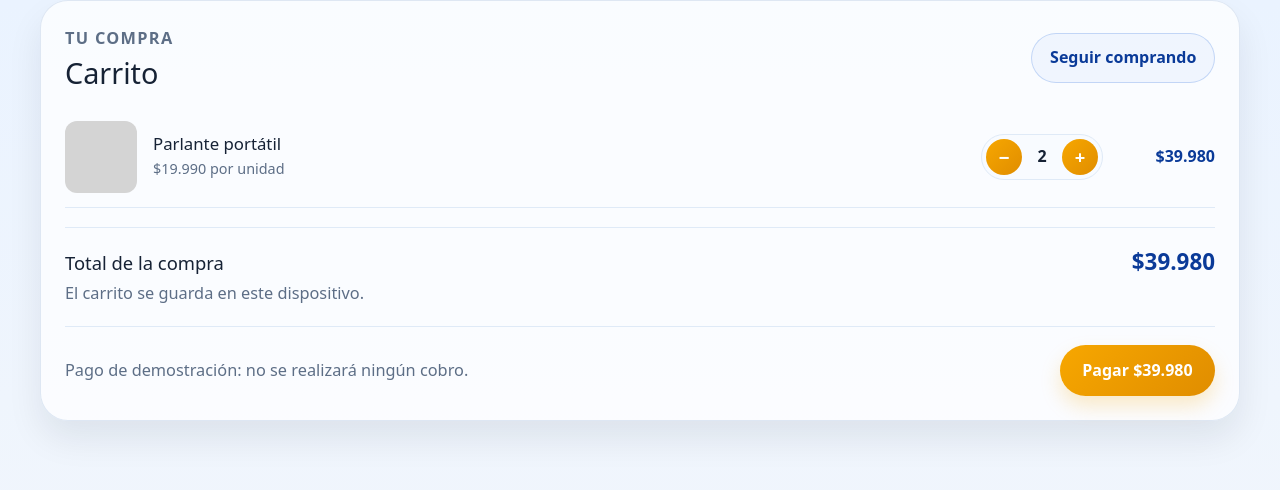
Test: confirma el pago de demostración y solicita vaciar el carrito
This screenshot has width=1280, height=490.
Click the button "Pagar $39.980" at point(1137, 370), box [1060, 345, 1215, 396]
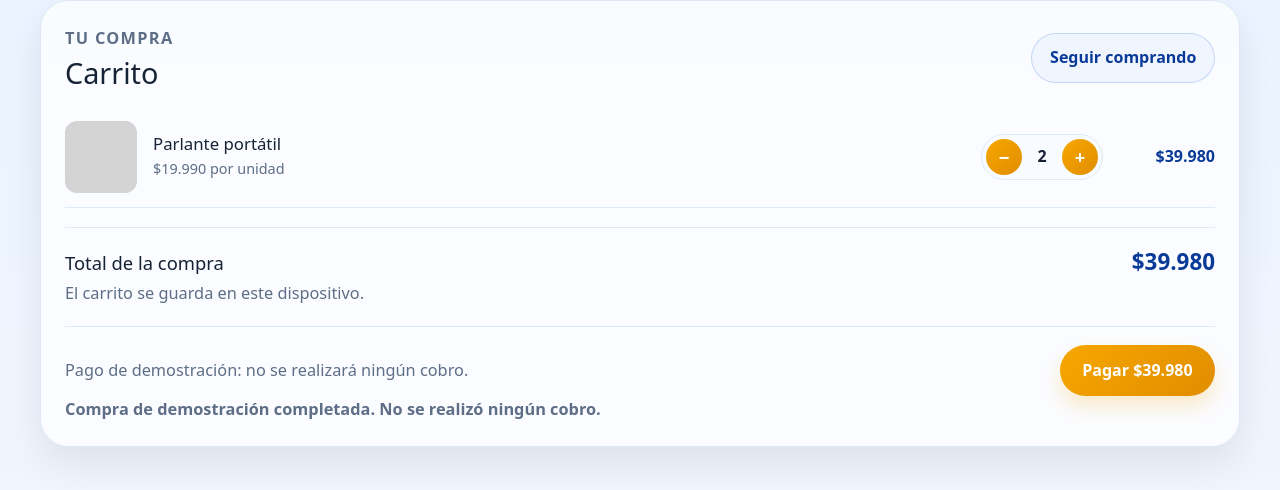
Expected: the text "Compra de demostración completada. No se realizó ningún cobro." is shown, [65, 398, 601, 420]
